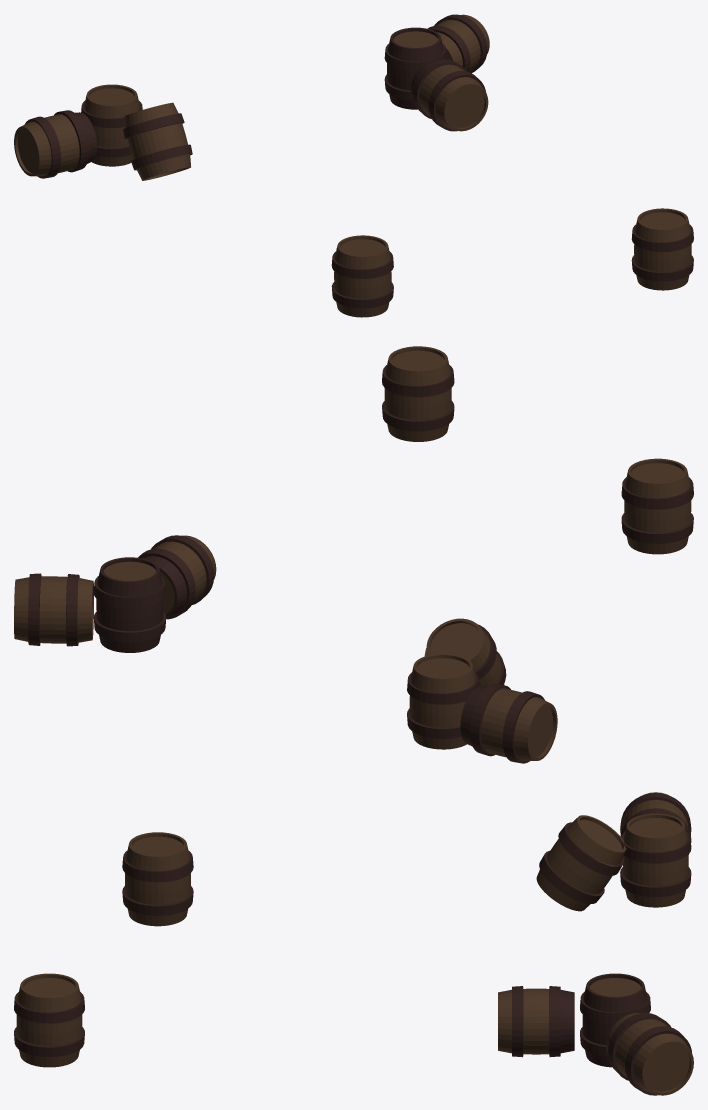
The model's file is Barili.fbx.
3 renders of one model, top to bottom at view 1: azimuth 30°, elevation 25°; view 2: azimuth 150°, elevation 25°; view 3: azimuth 270°, elevation 25°, orthographic. The views are drawn at different scales.
Visible parts, largest first — view 1: barile; view 2: barile; view 3: barile.
Boxes of the visible parts, x1,y1,x2,y2 form: barile: (14, 14, 693, 317); barile: (14, 346, 693, 763); barile: (14, 792, 693, 1095).
Bounding box in the file's own units: 1749 × 277 × 1966.
